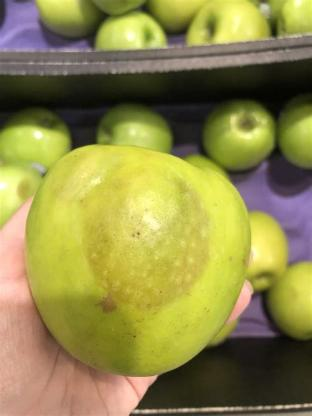defect: (81, 160, 211, 322)
